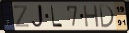7: (65, 5, 79, 29)
D: (98, 4, 116, 29)
H: (82, 4, 100, 28)
J: (30, 3, 46, 29)
L: (50, 4, 63, 29)
Z: (13, 5, 30, 29)
